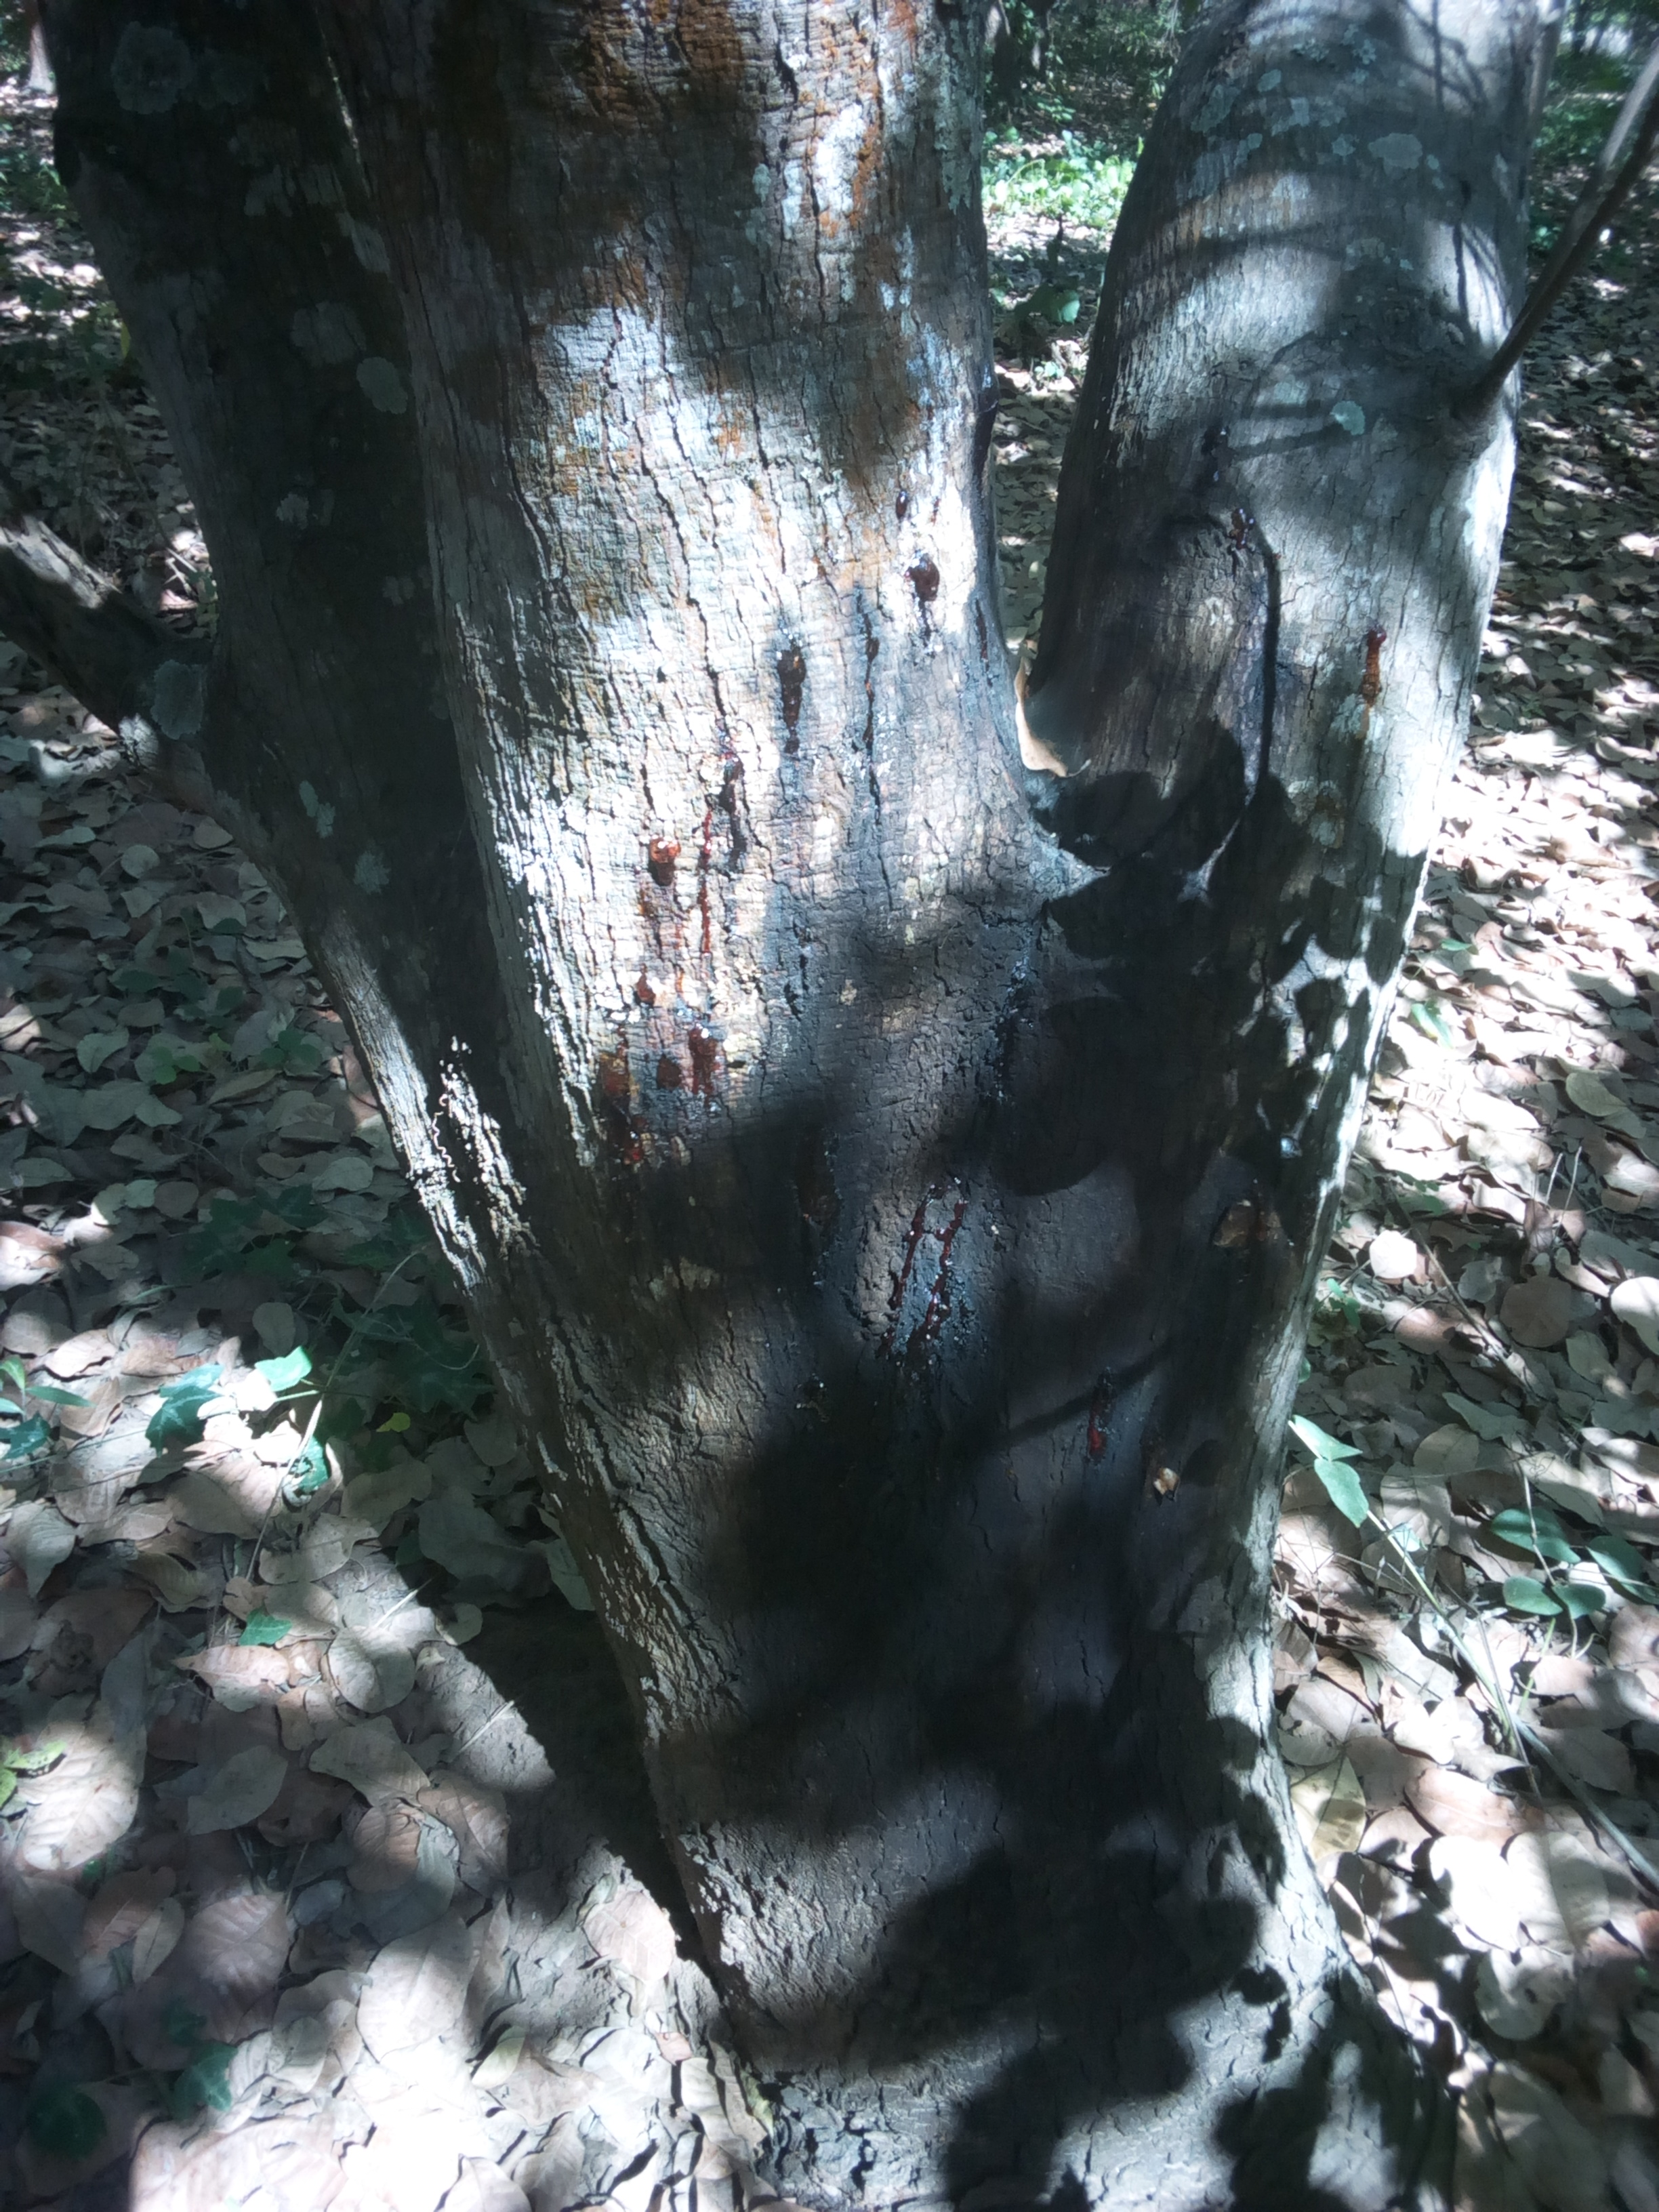Gommose: (622, 758, 1328, 2170)
